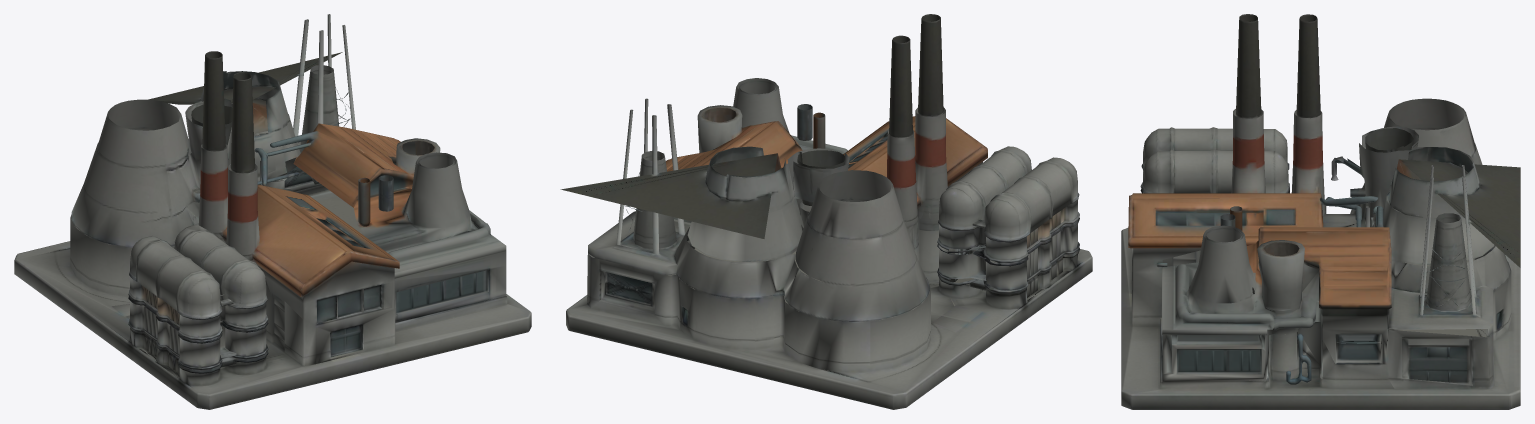
The model's file is tripo_convert_3ed6428e-322d-4180-8a86-9b816e0d0360.fbx.
The picture shows the model from 3 angles, left to right: view 1: azimuth 30°, elevation 25°; view 2: azimuth 150°, elevation 25°; view 3: azimuth 270°, elevation 25°; orthographic projection. The views are drawn at different scales.
Parts seen in each view (by area): view 1: tripo_node_3ed6428e; view 2: tripo_node_3ed6428e; view 3: tripo_node_3ed6428e.
Part boxes in pixels (left/top/right/bottom): tripo_node_3ed6428e: left=14, top=14, right=531, bottom=409; tripo_node_3ed6428e: left=560, top=14, right=1092, bottom=409; tripo_node_3ed6428e: left=1121, top=14, right=1520, bottom=409.
Size of the model in its own units: 1 by 0.7654 by 1.
